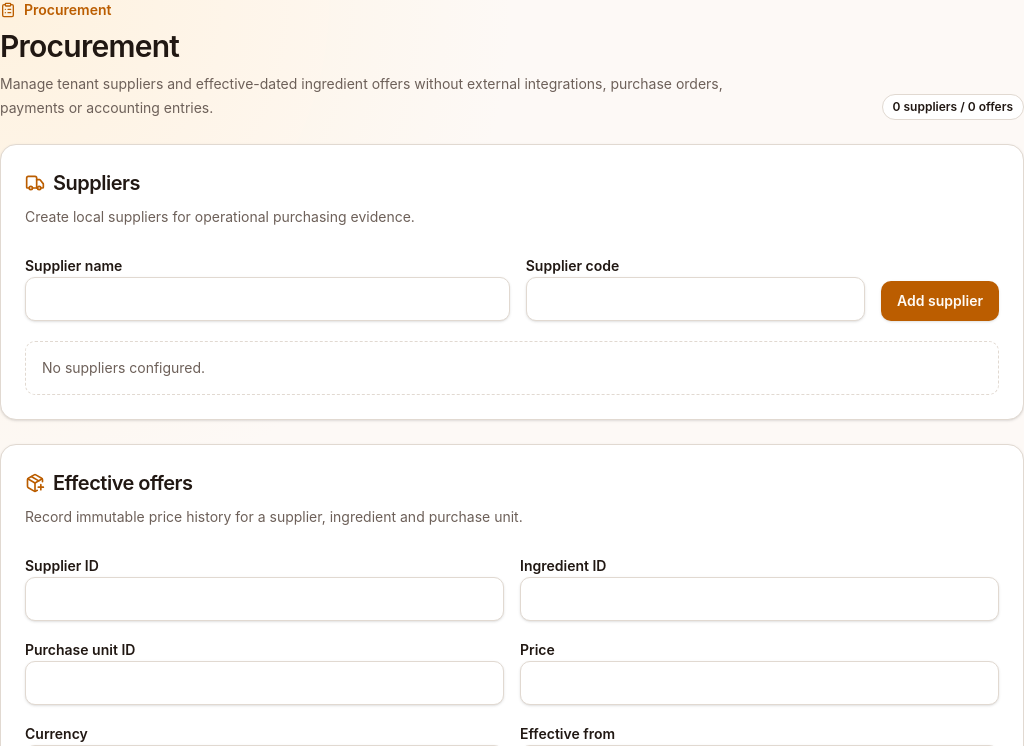
Scenario: procurement suppliers experience › creates a supplier and refreshes the visible list
Type "North Market" into the field labelled "Supplier name" at (267, 299), box [25,277,510,321]
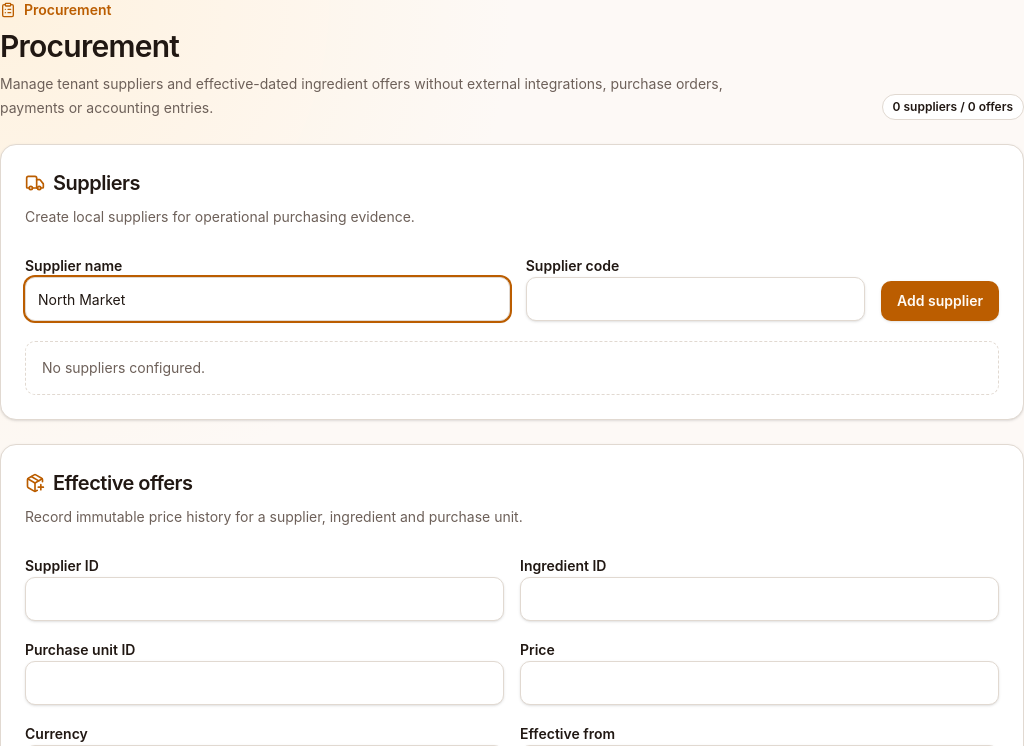
Type "north" into the field labelled "Supplier code" at (695, 299), box [526,277,865,321]
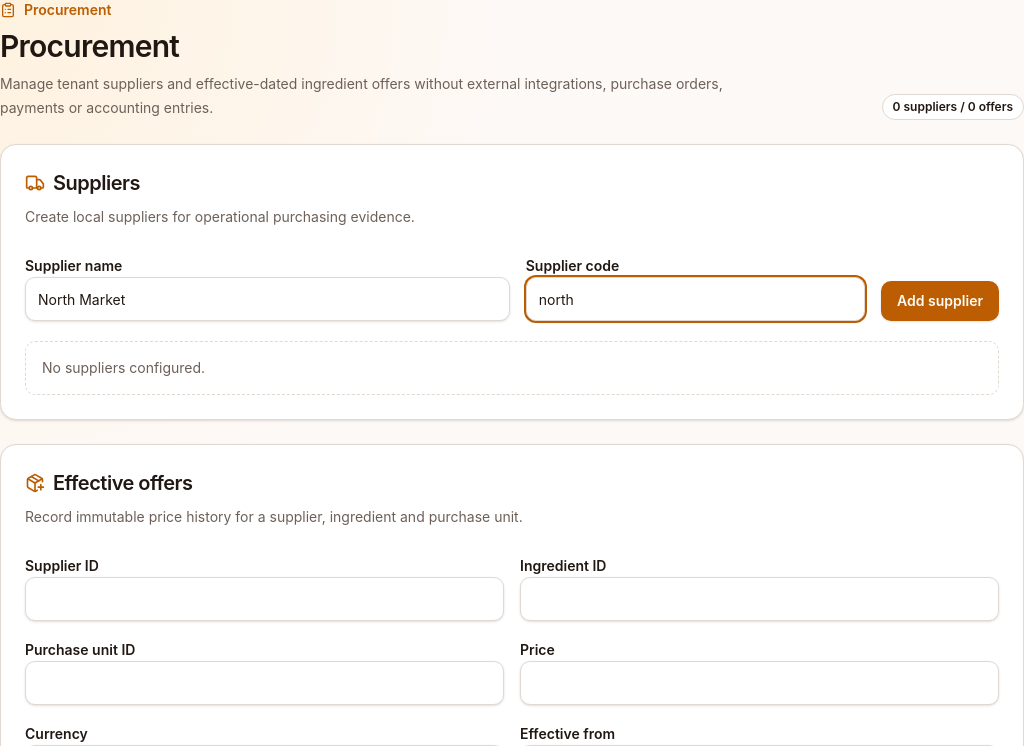
Click the button "Add supplier" at (940, 301), box [881,281,999,321]
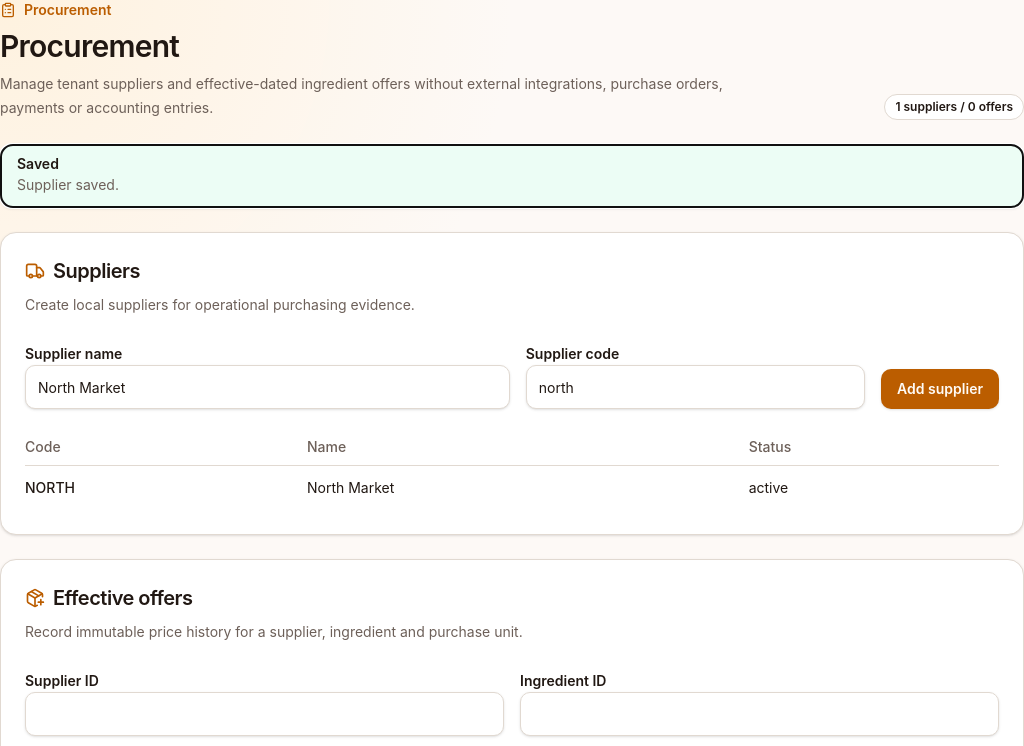
Result: the heading "Saved" is shown at [17,155,59,172]
Result: the text "NORTH" is shown at [25,466,307,510]
